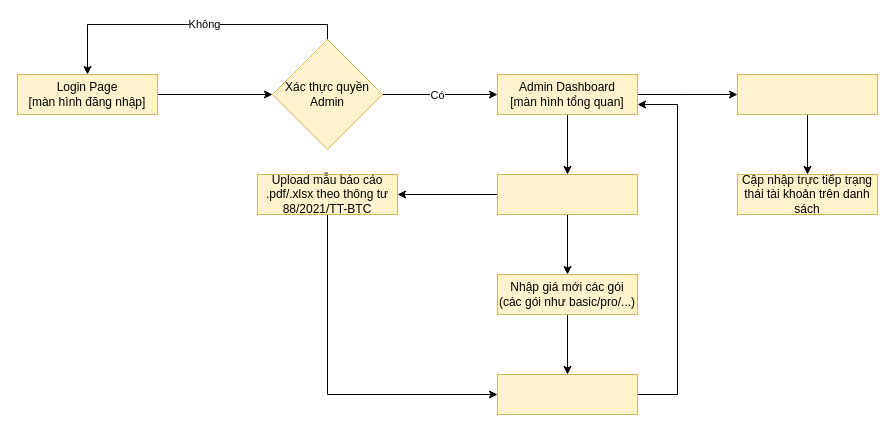
Some shapes in this 895 by 432 pixel diagram are drawn without their labels. Here are the shapes that lost their labels. From the top down, the centre of each, then its label:
At [807,94]: "Owner Account List [quản lý hộ kinh doanh]".
At [567,194]: "Configuration Screen [cấu hình & dịch vụ]".
At [567,394]: "Lưu cấu hình hệ thống".
